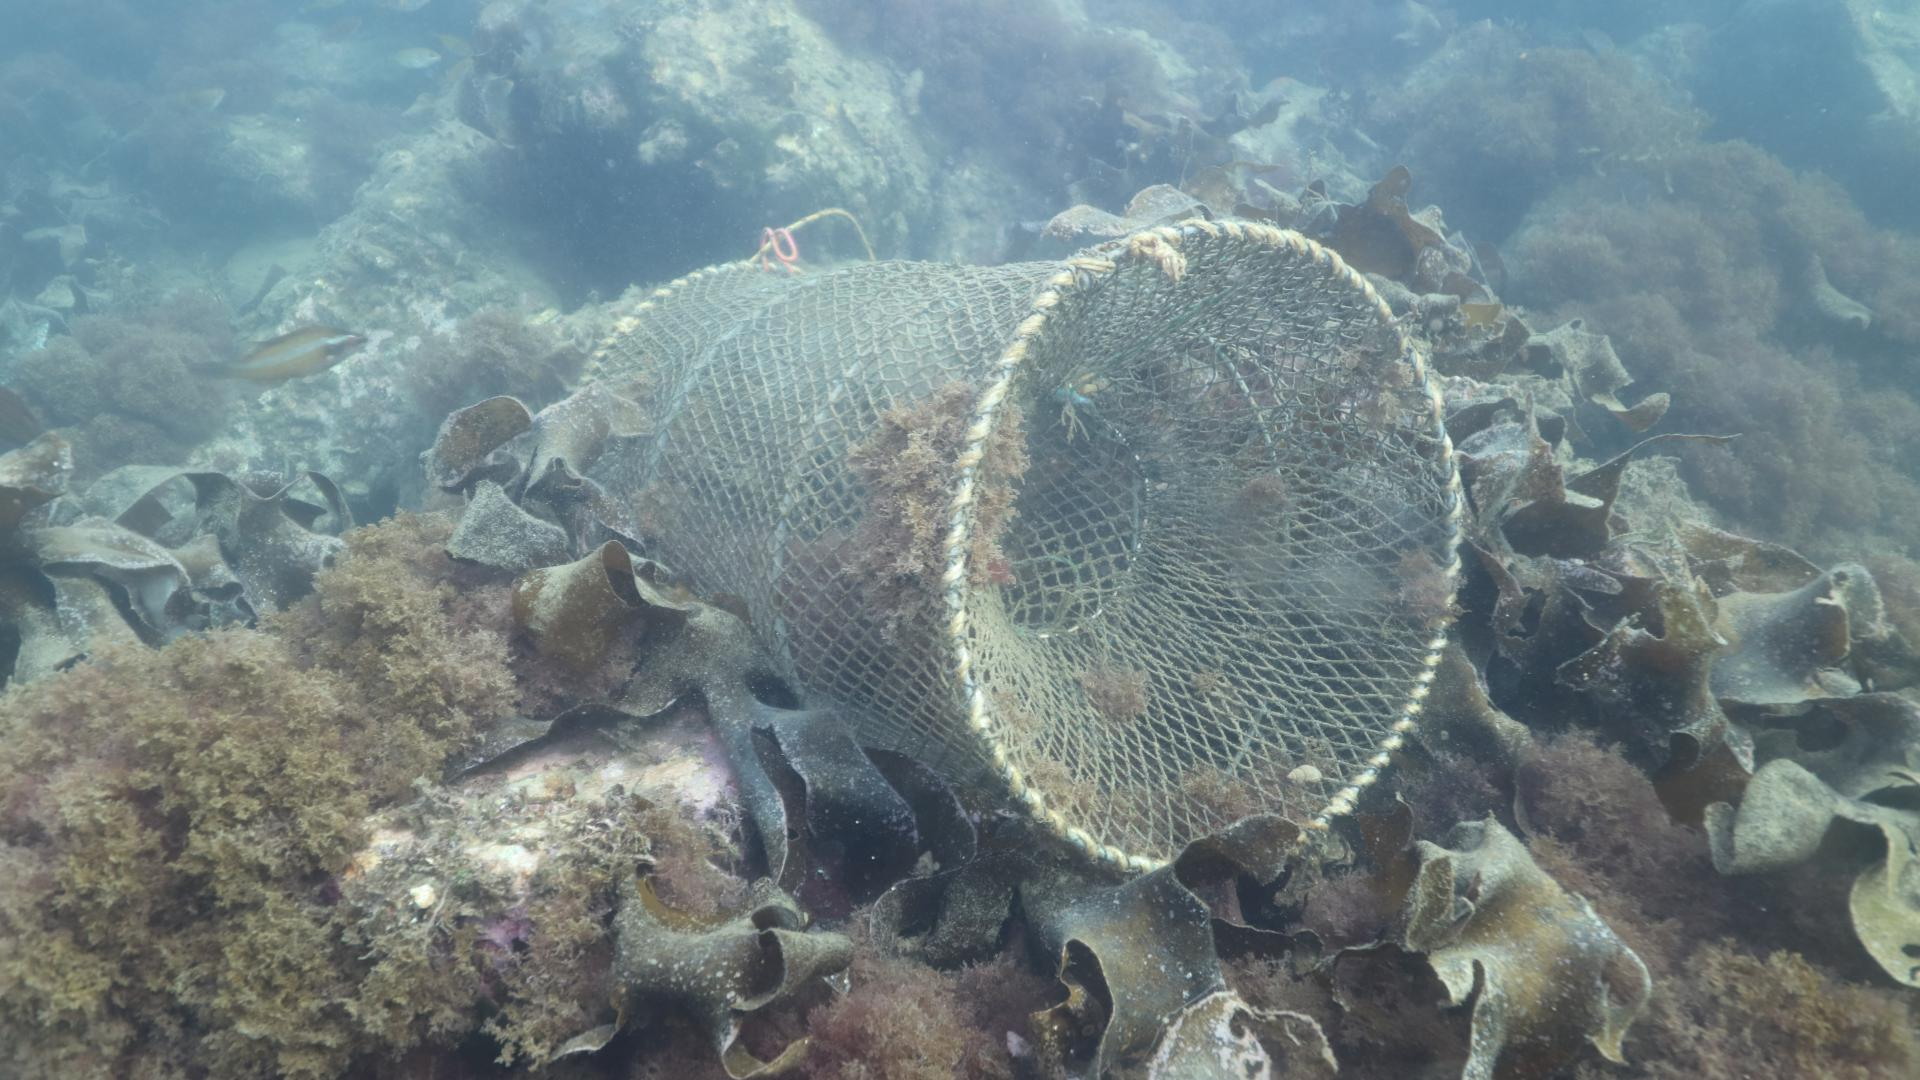spring fish trap: (568, 214, 1470, 878)
